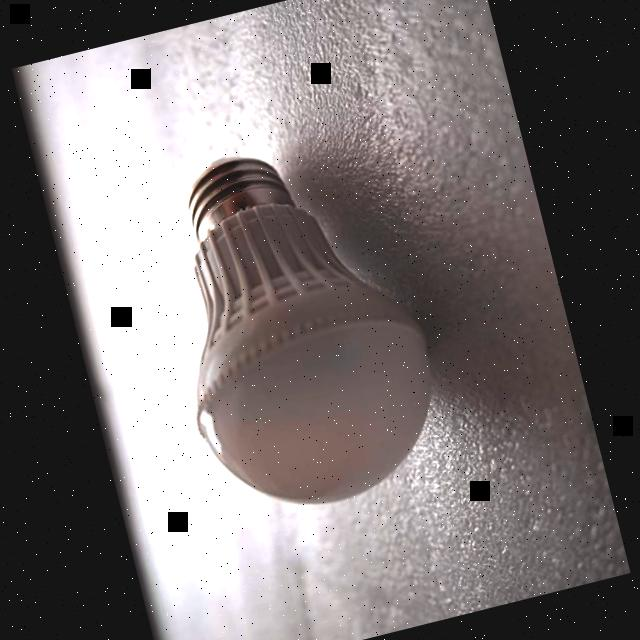light_bulb: (125, 112, 462, 538)
